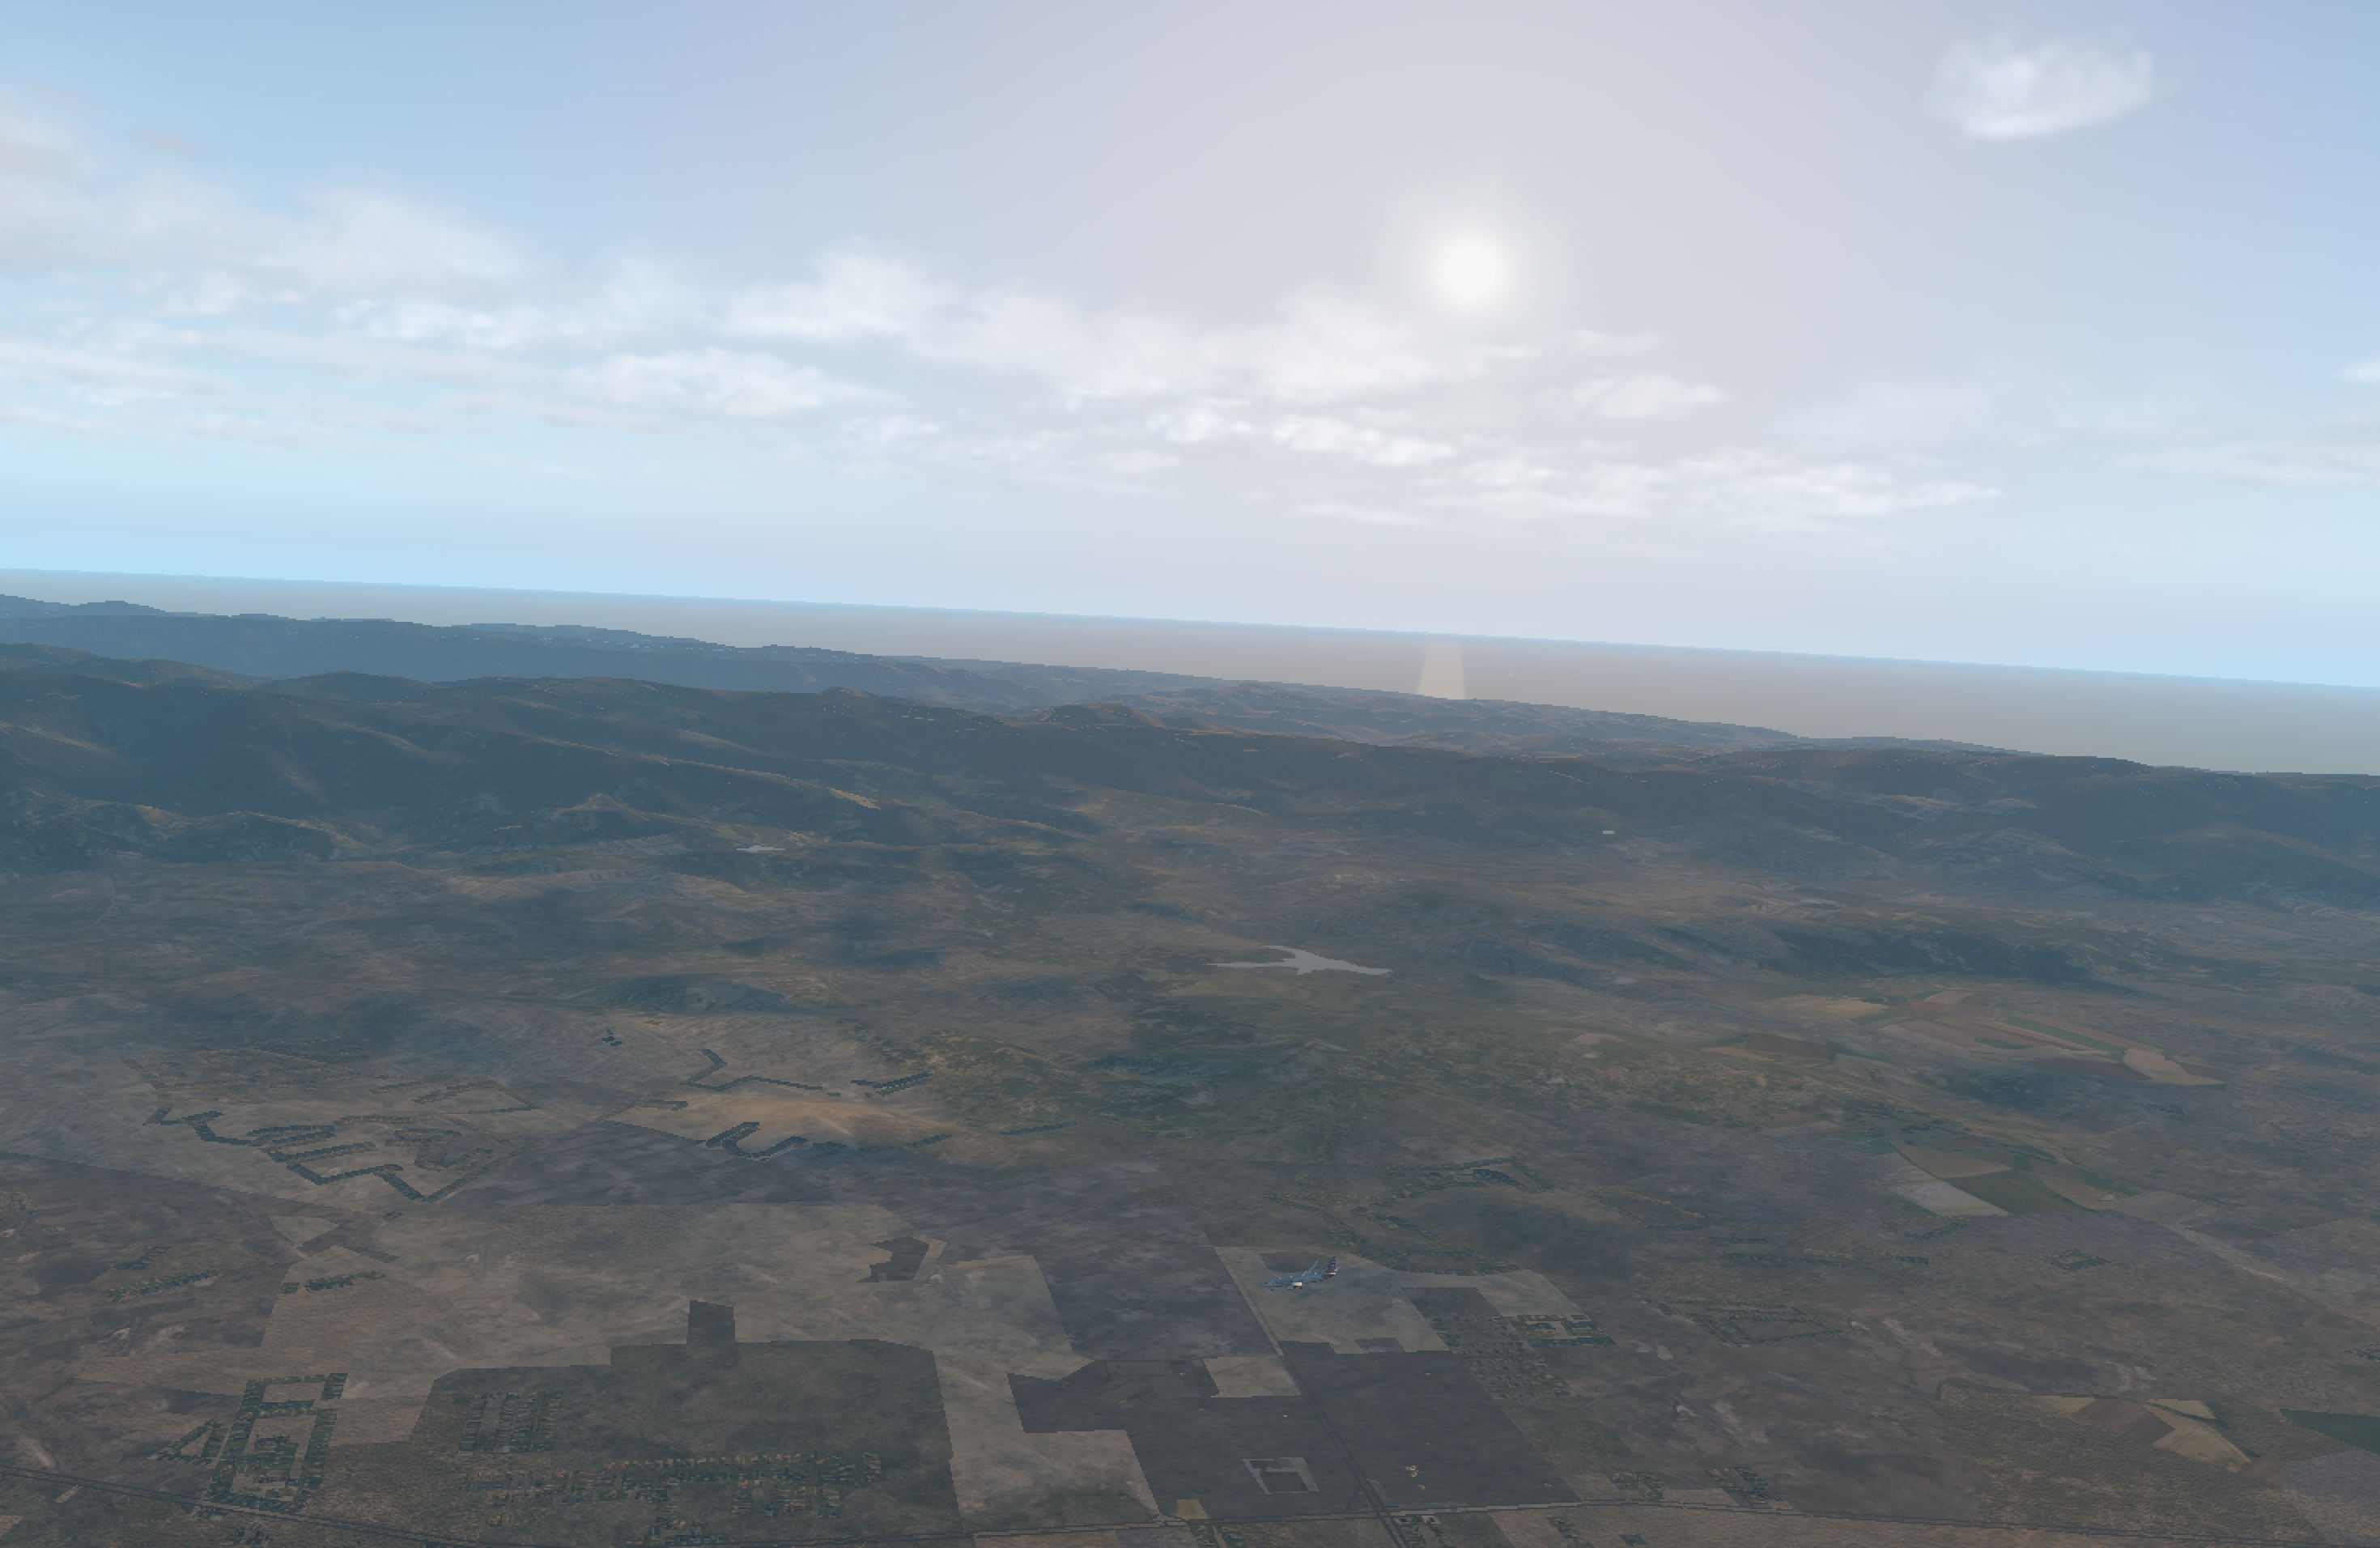aircraft: (1259, 1267, 1337, 1296)
